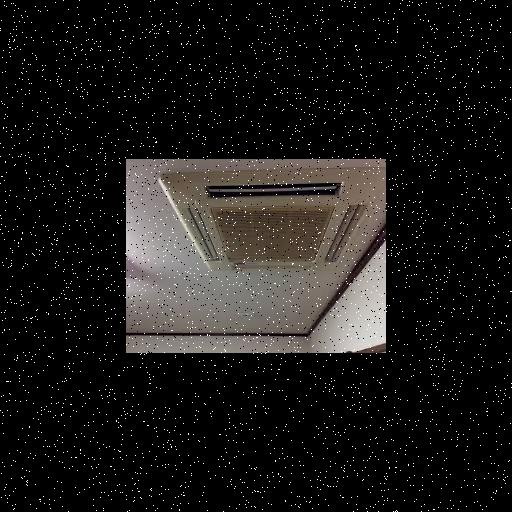4-way-ac: (159, 167, 386, 271)
